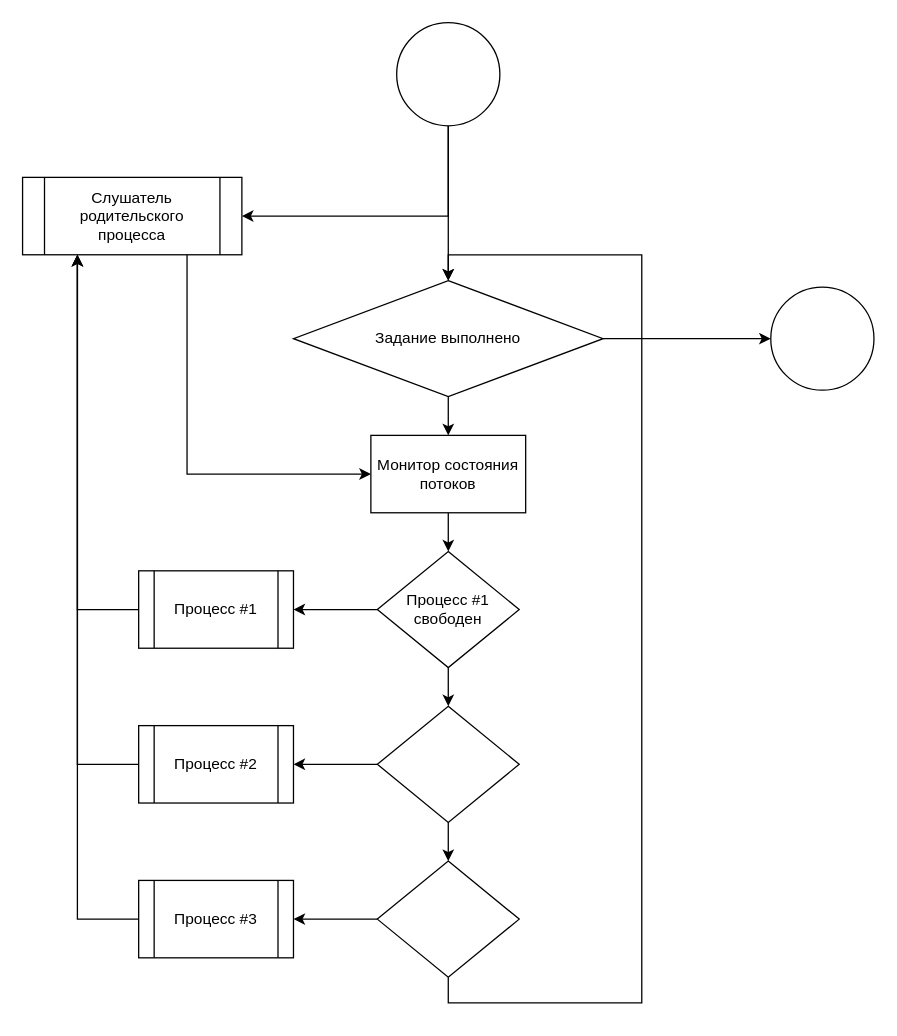
Image size: 897x1036. Some labels were removed from this diagram. Here are the shapes that lost their labels. From the top down, the box of each, then its label:
(395, 21, 500, 126): Начало программы
(769, 286, 874, 390): Завершение
(376, 705, 519, 822): Процесс #2 свободен
(376, 860, 519, 977): Процесс #3 свободен
